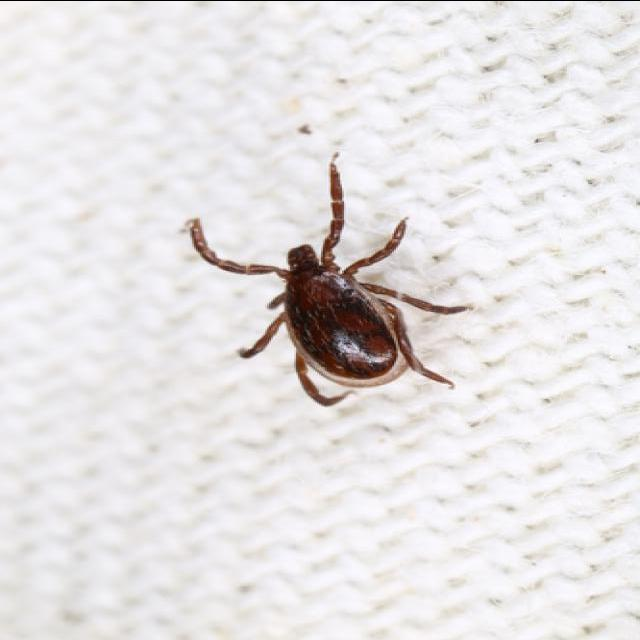Ixodes Ricinus-M: (186, 160, 469, 406)
